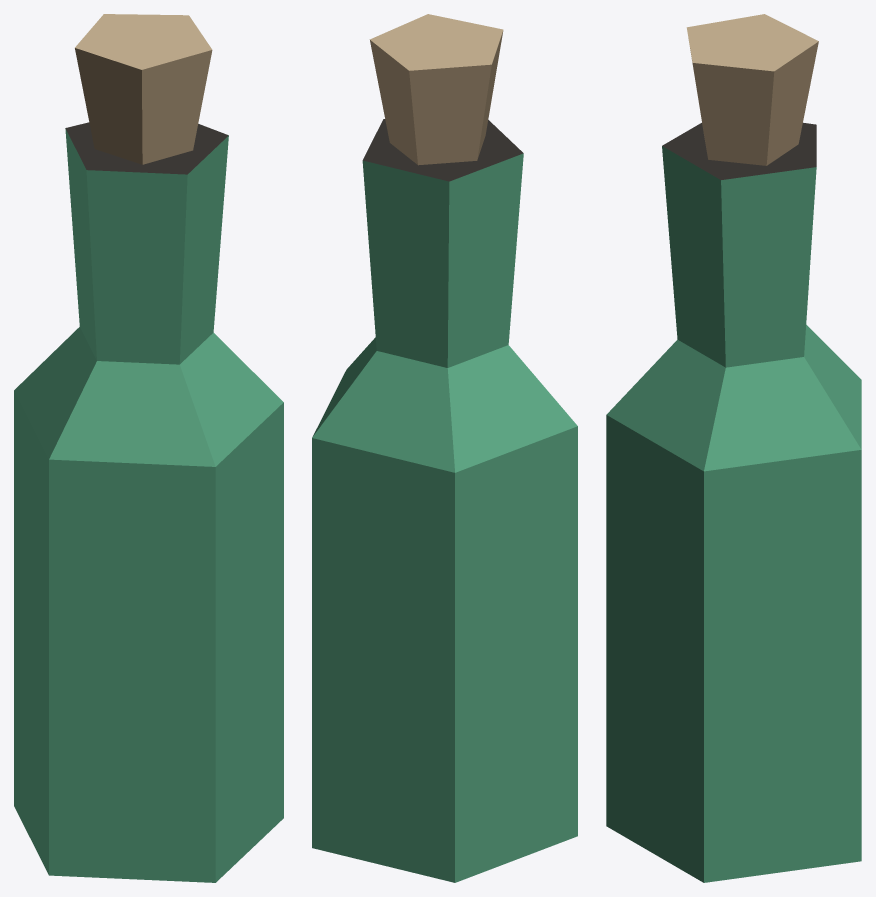
File: TB_D_Prop_Bottle_Tall_C.FBX
3 views of the same model, side by side, from view 1: azimuth 30°, elevation 25°; view 2: azimuth 150°, elevation 25°; view 3: azimuth 270°, elevation 25° (orthographic).
Parts seen in each view (by area): view 1: TB_D_Prop_Bottle_Tall_C; view 2: TB_D_Prop_Bottle_Tall_C; view 3: TB_D_Prop_Bottle_Tall_C.
Part boxes in pixels (x1=…): TB_D_Prop_Bottle_Tall_C: x1=14, y1=14, x2=283, y2=882; TB_D_Prop_Bottle_Tall_C: x1=312, y1=14, x2=577, y2=882; TB_D_Prop_Bottle_Tall_C: x1=606, y1=14, x2=861, y2=882.
Bounding box in the file's own units: 0.2856 × 0.9197 × 0.2716.
